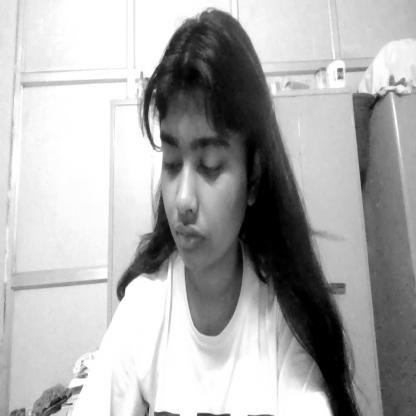Distracted: (142, 3, 264, 284)
